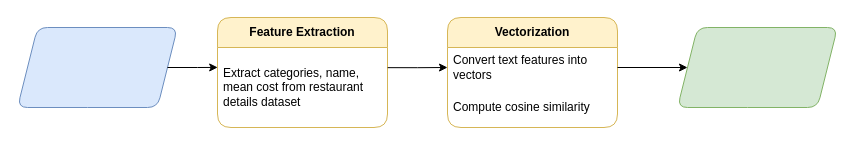
Some shapes in this 855 by 145 pixel diagram are drawn without their labels. Each missing label, with the box of its shape:
Final Dataset: (16, 26, 178, 108)
Recommendation: (676, 26, 838, 108)
